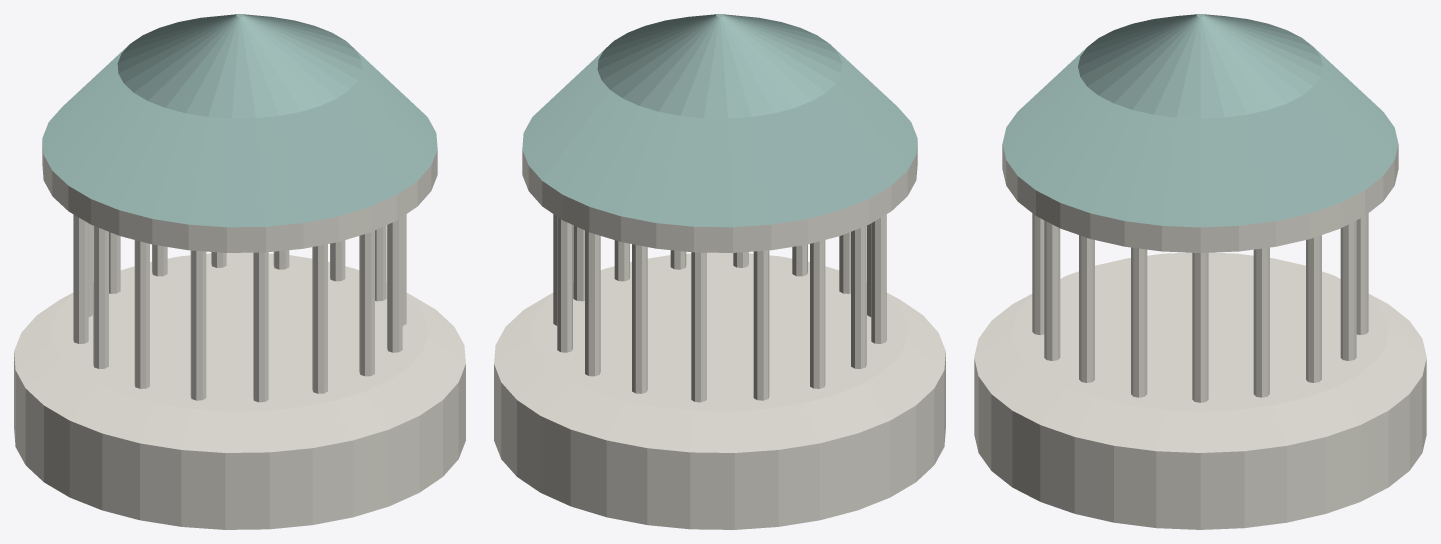
3 views of the same model, side by side, from view 1: azimuth 30°, elevation 25°; view 2: azimuth 150°, elevation 25°; view 3: azimuth 270°, elevation 25° (orthographic).
Visible parts, largest first — view 1: worldgen; view 2: worldgen; view 3: worldgen.
Boxes of the visible parts, <box> form: worldgen: <box>14,14,465,529</box>; worldgen: <box>494,14,945,529</box>; worldgen: <box>974,14,1426,529</box>.
Size of the model in its own units: 48 by 49 by 48.
